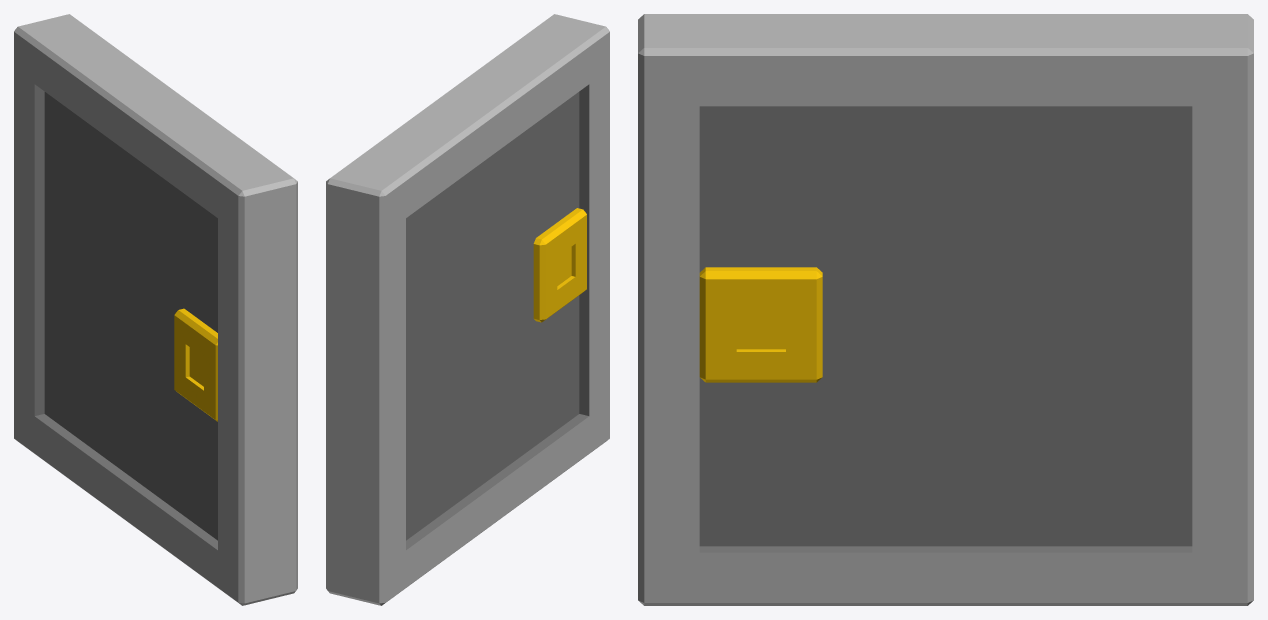
File: HJD_FP_door00.fbx
3 renders of one model, left to right at view 1: azimuth 30°, elevation 25°; view 2: azimuth 150°, elevation 25°; view 3: azimuth 270°, elevation 25°, orthographic. The views are drawn at different scales.
Parts seen in each view (by area): view 1: transform_unity_scale17; view 2: transform_unity_scale17; view 3: transform_unity_scale17.
Boxes of the visible parts, bbox=[...] form: transform_unity_scale17: bbox=[14, 14, 297, 605]; transform_unity_scale17: bbox=[326, 14, 609, 605]; transform_unity_scale17: bbox=[638, 14, 1253, 605].
Size of the model in its own units: 15 by 100 by 100.
